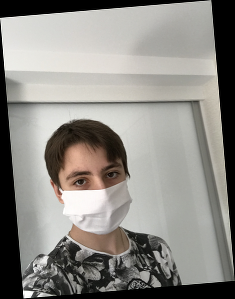with_mask: (59, 160, 133, 235)
